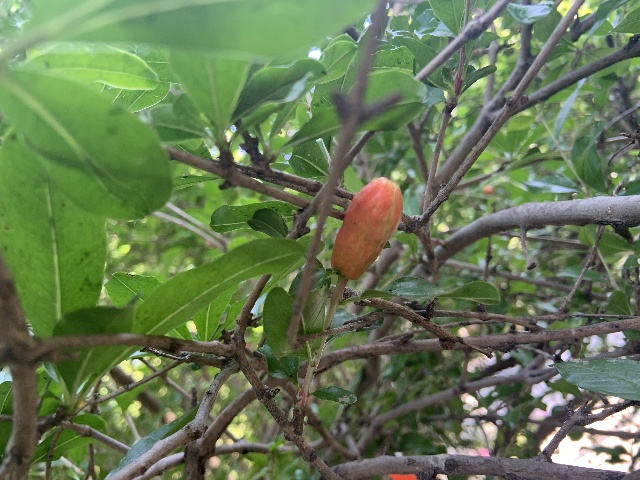bud: (331, 176, 402, 280)
